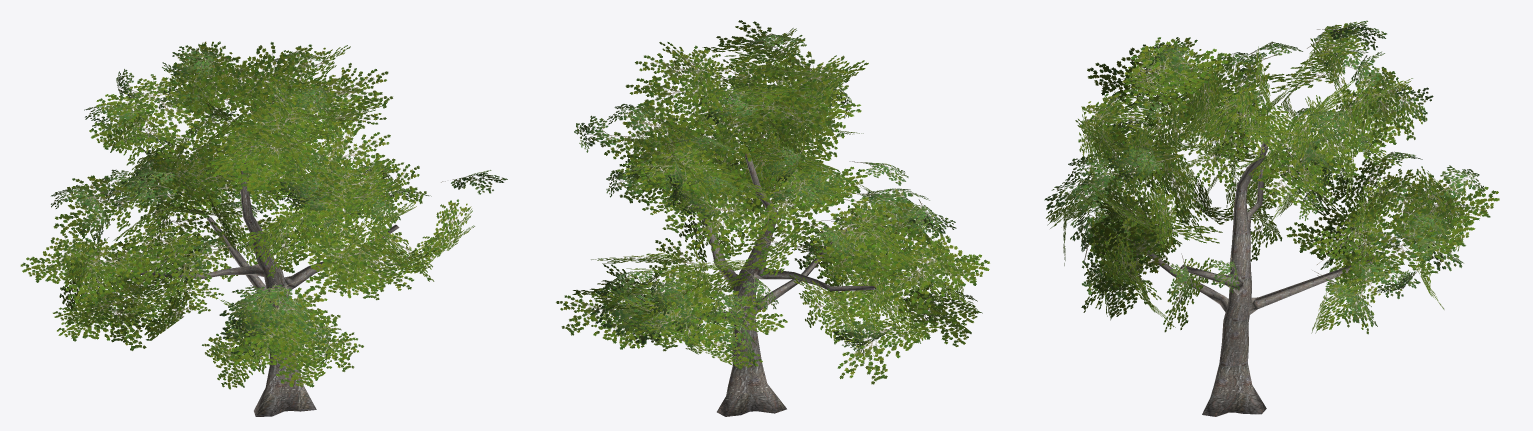
File: garden-tree-far.glb
3 views of the same model, side by side, from view 1: azimuth 30°, elevation 25°; view 2: azimuth 150°, elevation 25°; view 3: azimuth 270°, elevation 25° (orthographic). The views are drawn at different scales.
Parts seen in each view (by area): view 1: Broadleaf alpha foliage, Refined broadleaf trunk; view 2: Broadleaf alpha foliage, Refined broadleaf trunk; view 3: Broadleaf alpha foliage, Refined broadleaf trunk.
Boxes of the visible parts, left/top/right/bottom form: Broadleaf alpha foliage: left=20, top=41, right=507, bottom=389; Refined broadleaf trunk: left=131, top=146, right=399, bottom=416; Broadleaf alpha foliage: left=556, top=20, right=989, bottom=384; Refined broadleaf trunk: left=678, top=153, right=876, bottom=416; Broadleaf alpha foliage: left=1044, top=20, right=1499, bottom=334; Refined broadleaf trunk: left=1123, top=126, right=1382, bottom=416.
Bounding box in the file's own units: 11.33 × 8.56 × 9.96.
Materials: 2 (2 with a texture image).
